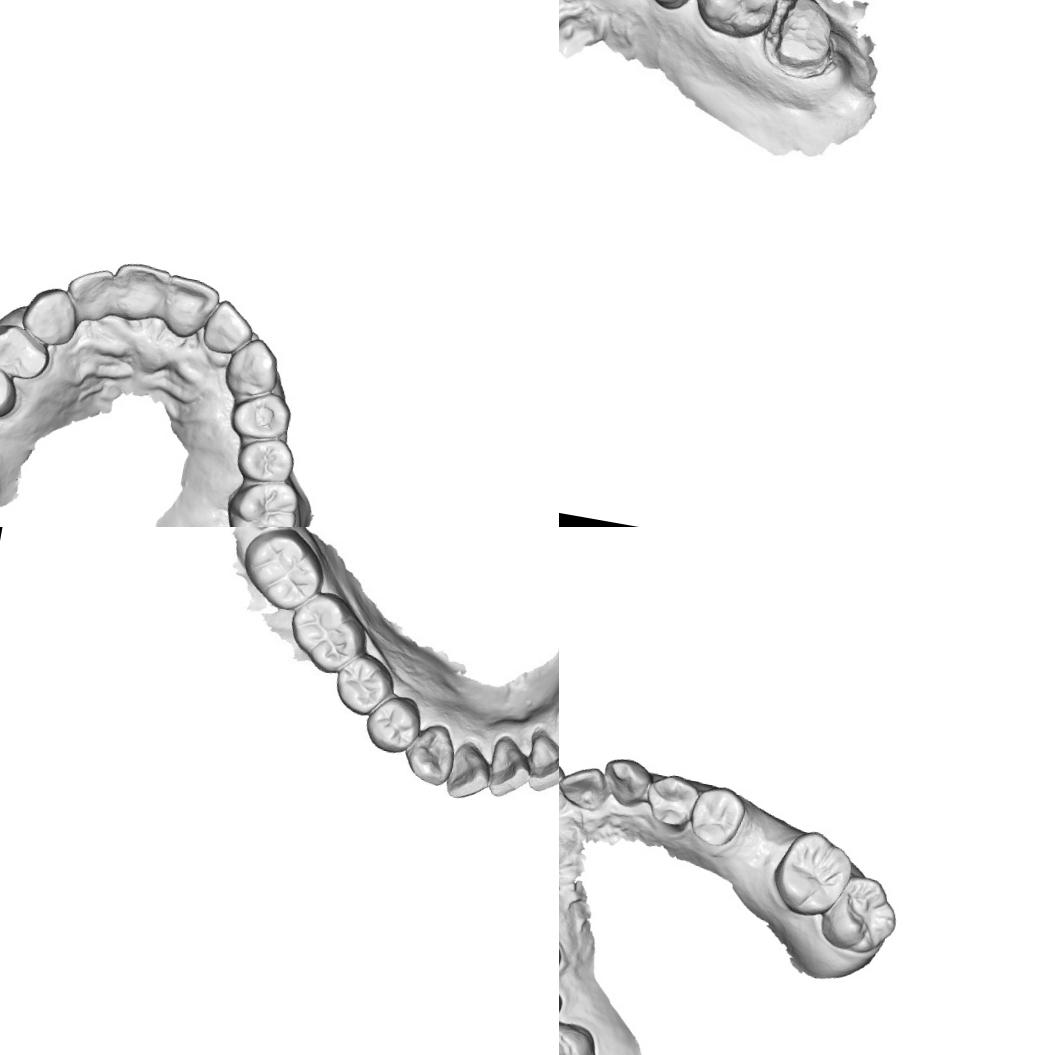canine: (18, 281, 84, 350), (223, 331, 285, 404), (400, 717, 460, 790), (598, 753, 654, 810)
crown: (762, 0, 853, 78)
incisor: (157, 269, 224, 334), (109, 257, 172, 319), (442, 739, 494, 806), (63, 260, 119, 320), (483, 736, 532, 802), (205, 296, 258, 356), (559, 759, 609, 813), (524, 731, 559, 797), (559, 747, 576, 820)
molar: (766, 809, 866, 924), (236, 527, 331, 615), (284, 586, 371, 678), (827, 872, 899, 963), (219, 471, 304, 527), (689, 0, 783, 35), (559, 1014, 602, 1055)
premolar: (329, 649, 398, 720), (684, 780, 749, 851), (360, 688, 426, 757), (640, 768, 701, 831), (232, 430, 298, 488), (0, 317, 54, 384), (234, 385, 295, 443), (0, 347, 25, 422)
